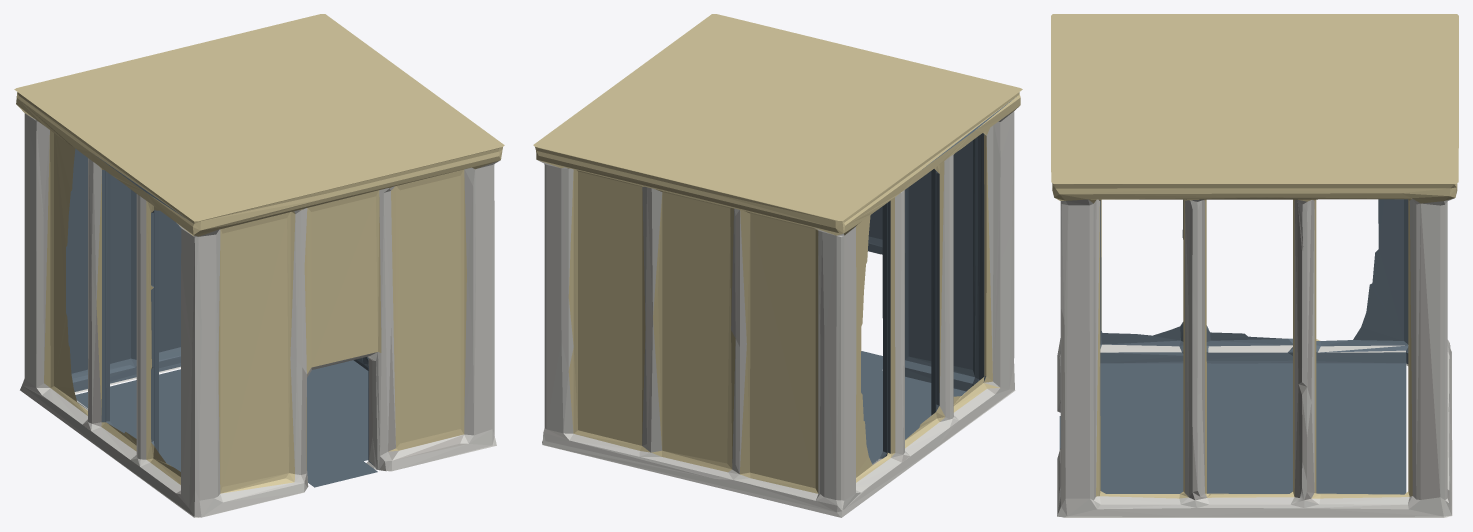
The model's file is etape-1.glb.
The picture shows the model from 3 angles, left to right: view 1: azimuth 30°, elevation 25°; view 2: azimuth 150°, elevation 25°; view 3: azimuth 270°, elevation 25°; orthographic projection. The views are drawn at different scales.
Visible parts, largest first — view 1: geometry_0; view 2: geometry_0; view 3: geometry_0.
Boxes of the visible parts, x1,y1,x2,y2 form: geometry_0: [14, 14, 504, 517]; geometry_0: [533, 14, 1022, 517]; geometry_0: [1051, 14, 1458, 517].
Bounding box in the file's own units: 0.6189 × 0.57 × 0.6272.
